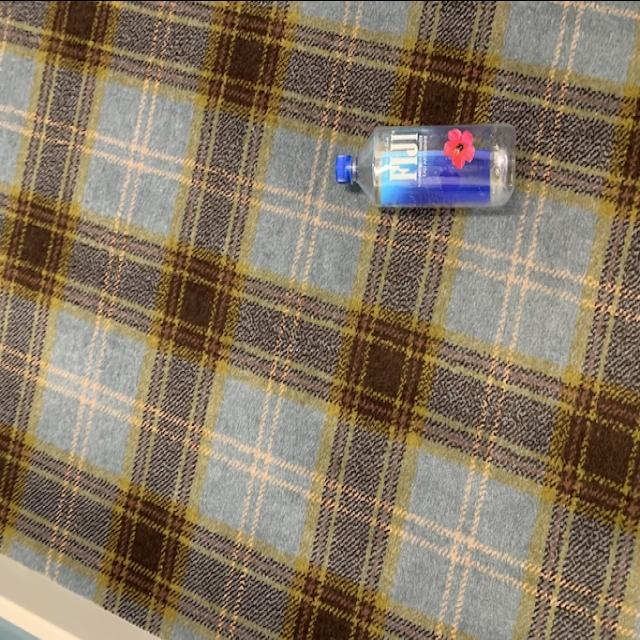PET: (331, 119, 523, 212)
